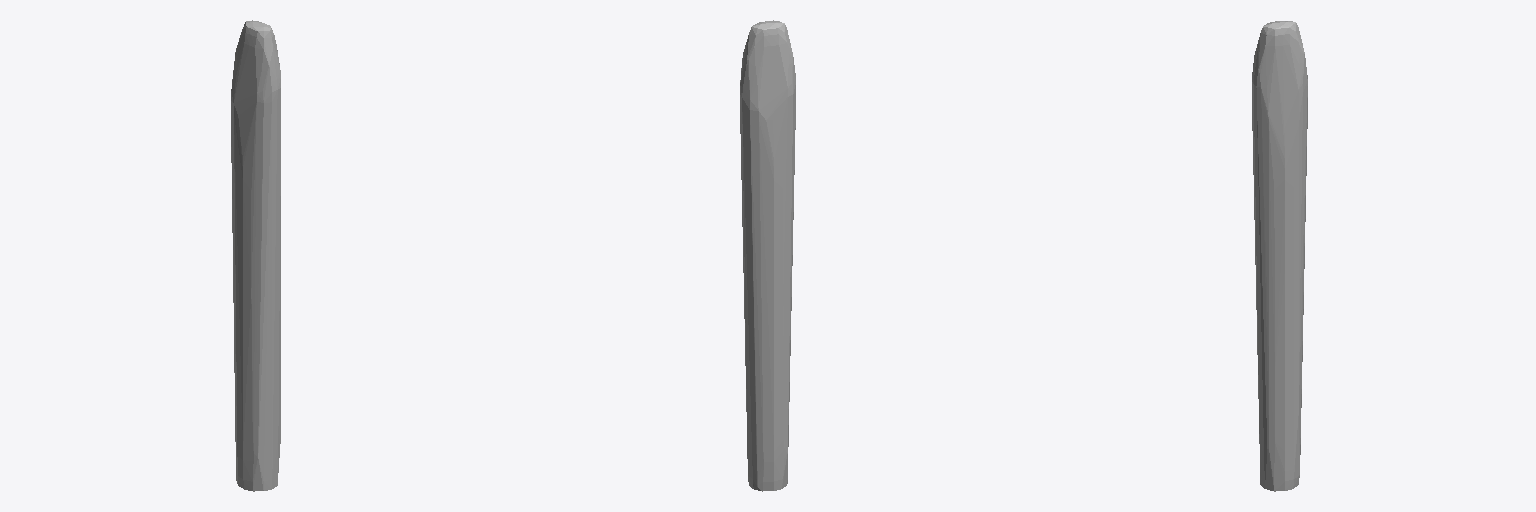
robot.urdf — root:
<robot name="root">
  <link name="link_coacd_convex_piece_0">
    <inertial>
      <origin xyz="0 0 0" rpy="0 0 0"/>
      <inertia ixx="6.47E-09" ixy="-4.42E-12" ixz="5.87E-12" iyy="6.47E-09" iyz="-6.42E-11" izz="4.34E-11"/>
    </inertial>
    <visual>
      <origin xyz="0 0 0" rpy="0 0 0"/>
      <geometry>
        <mesh filename="coacd_convex_piece_0.obj" scale="1.0000E+00 1.0000E+00 1.0000E+00"/>
      </geometry>
      <material name="">
        <color rgba="7.50E-01 7.50E-01 7.50E-01 1"/>
      </material>
    </visual>
    <collision>
      <origin xyz="0 0 0" rpy="0 0 0"/>
      <geometry>
        <mesh filename="coacd_convex_piece_0.obj" scale="1.0000E+00 1.0000E+00 1.0000E+00"/>
      </geometry>
    </collision>
  </link>
  <link name="link_coacd_convex_piece_1">
    <inertial>
      <origin xyz="0 0 0" rpy="0 0 0"/>
      <inertia ixx="7.65E-08" ixy="7.96E-11" ixz="2.51E-10" iyy="7.65E-08" iyz="-2.25E-10" izz="1.03E-08"/>
    </inertial>
    <visual>
      <origin xyz="0 0 0" rpy="0 0 0"/>
      <geometry>
        <mesh filename="coacd_convex_piece_1.obj" scale="1.0000E+00 1.0000E+00 1.0000E+00"/>
      </geometry>
      <material name="">
        <color rgba="7.50E-01 7.50E-01 7.50E-01 1"/>
      </material>
    </visual>
    <collision>
      <origin xyz="0 0 0" rpy="0 0 0"/>
      <geometry>
        <mesh filename="coacd_convex_piece_1.obj" scale="1.0000E+00 1.0000E+00 1.0000E+00"/>
      </geometry>
    </collision>
  </link>
  <joint name="link_coacd_convex_piece_1_joint" type="fixed">
    <origin xyz="0 0 0" rpy="0 0 0"/>
    <parent link="link_coacd_convex_piece_0"/>
    <child link="link_coacd_convex_piece_1"/>
  </joint>
</robot>

--- What the picture shows (computed from the rendered views, not written in the file) ---
Views: 3 orthographic renders of the robot side by side, from view 1: azimuth 90°, elevation 25°; view 2: azimuth 150°, elevation 25°; view 3: azimuth 330°, elevation 25°.
Model root with 2 links and 1 joints (1 fixed), rooted at link_coacd_convex_piece_0, posed every joint at zero.
Visible links, largest first — view 1: link_coacd_convex_piece_0; view 2: link_coacd_convex_piece_0; view 3: link_coacd_convex_piece_0.
Boxes of the visible links, <box> form: link_coacd_convex_piece_0: <box>231,20,280,491</box>; link_coacd_convex_piece_0: <box>740,20,795,491</box>; link_coacd_convex_piece_0: <box>1252,21,1307,491</box>.
Size in the robot's own frame: 0.0097 by 0.01 by 0.0998 metres.
1 mesh visuals loaded from 2 distinct referenced files (1 OBJ); not drawn: 1 (reference not matched to a file when rendering).